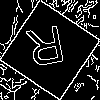R: (25, 25, 69, 77)
